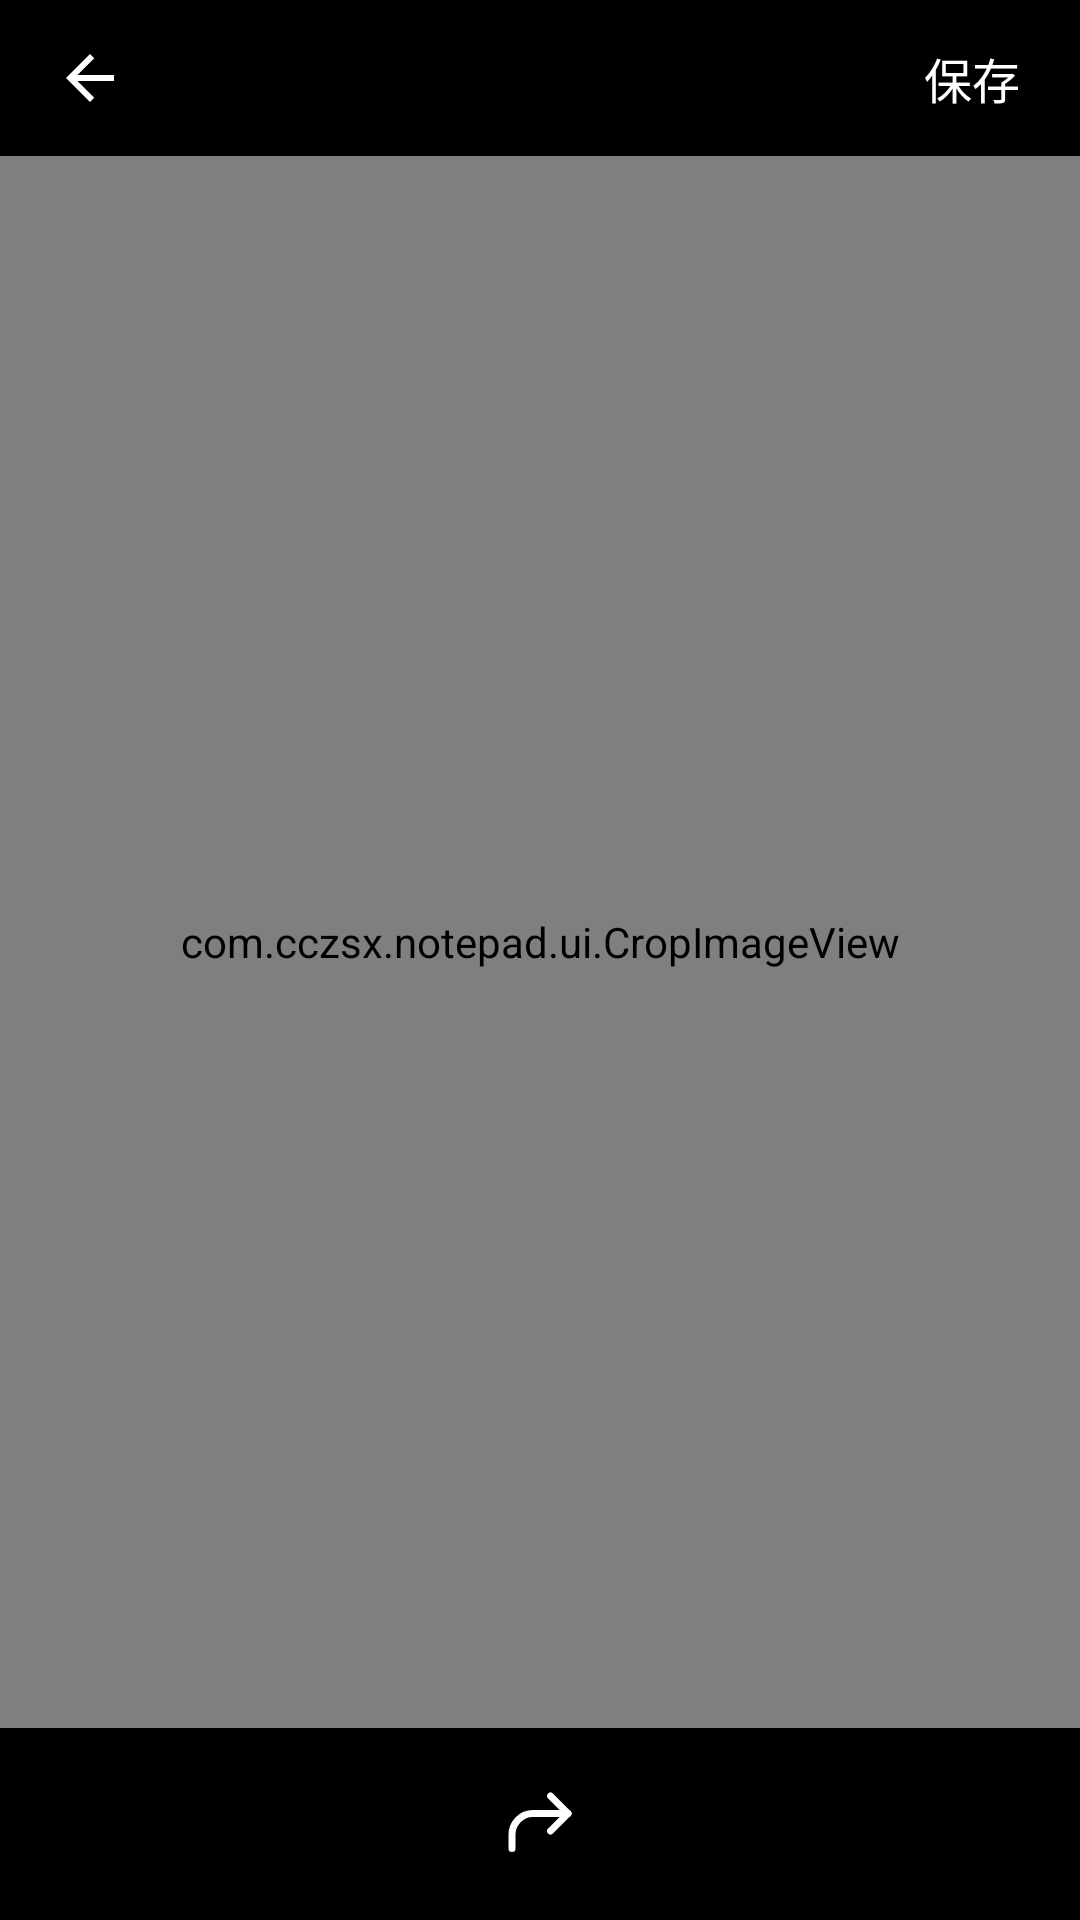

Icon bounding boxes for this 1080 × 1920 phone screenshot, format {"left": x1, "top": y1, "right": x2, "bottom": y2}:
旋转: {"left": 508, "top": 1792, "right": 572, "bottom": 1852}
返回: {"left": 66, "top": 54, "right": 114, "bottom": 102}
